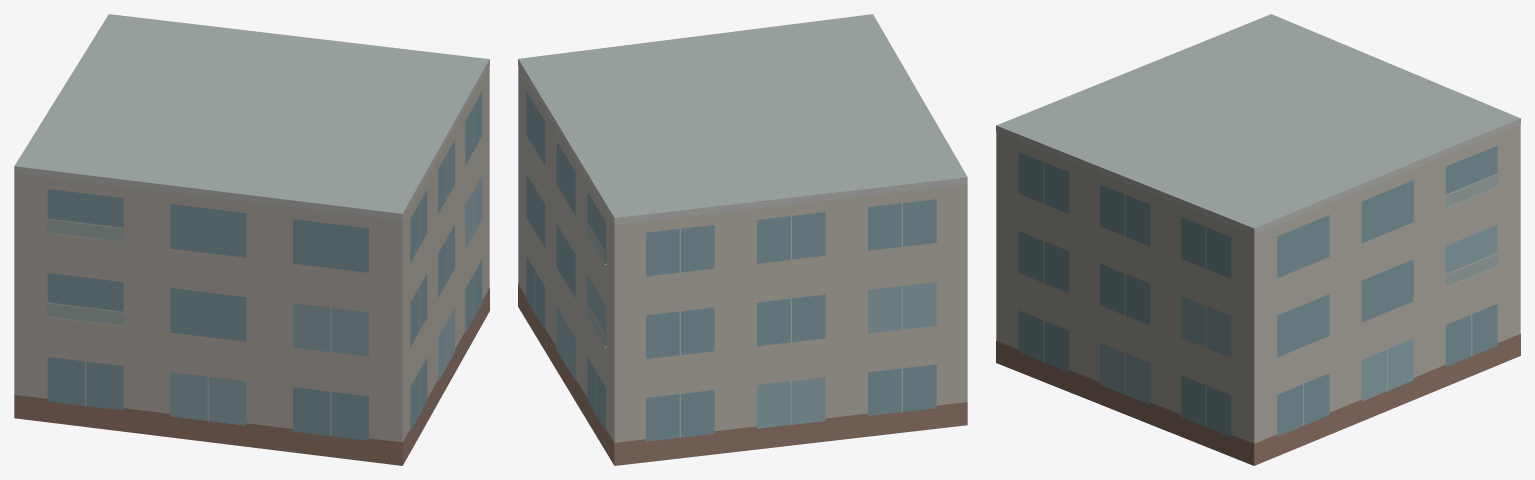
File: survey-upis-32597819.glb
3 renders of one model, left to right at view 1: azimuth 30°, elevation 25°; view 2: azimuth 150°, elevation 25°; view 3: azimuth 270°, elevation 25°, orthographic. The views are drawn at different scales.
Parts seen in each view (by area): view 1: survey-upis-32597819.tmp; view 2: survey-upis-32597819.tmp; view 3: survey-upis-32597819.tmp.
Part boxes in pixels (<box>): survey-upis-32597819.tmp: <box>14,14,489,465</box>; survey-upis-32597819.tmp: <box>518,14,967,465</box>; survey-upis-32597819.tmp: <box>996,14,1520,465</box>.
Bounding box in the file's own units: 17.73 × 9.15 × 18.32.
